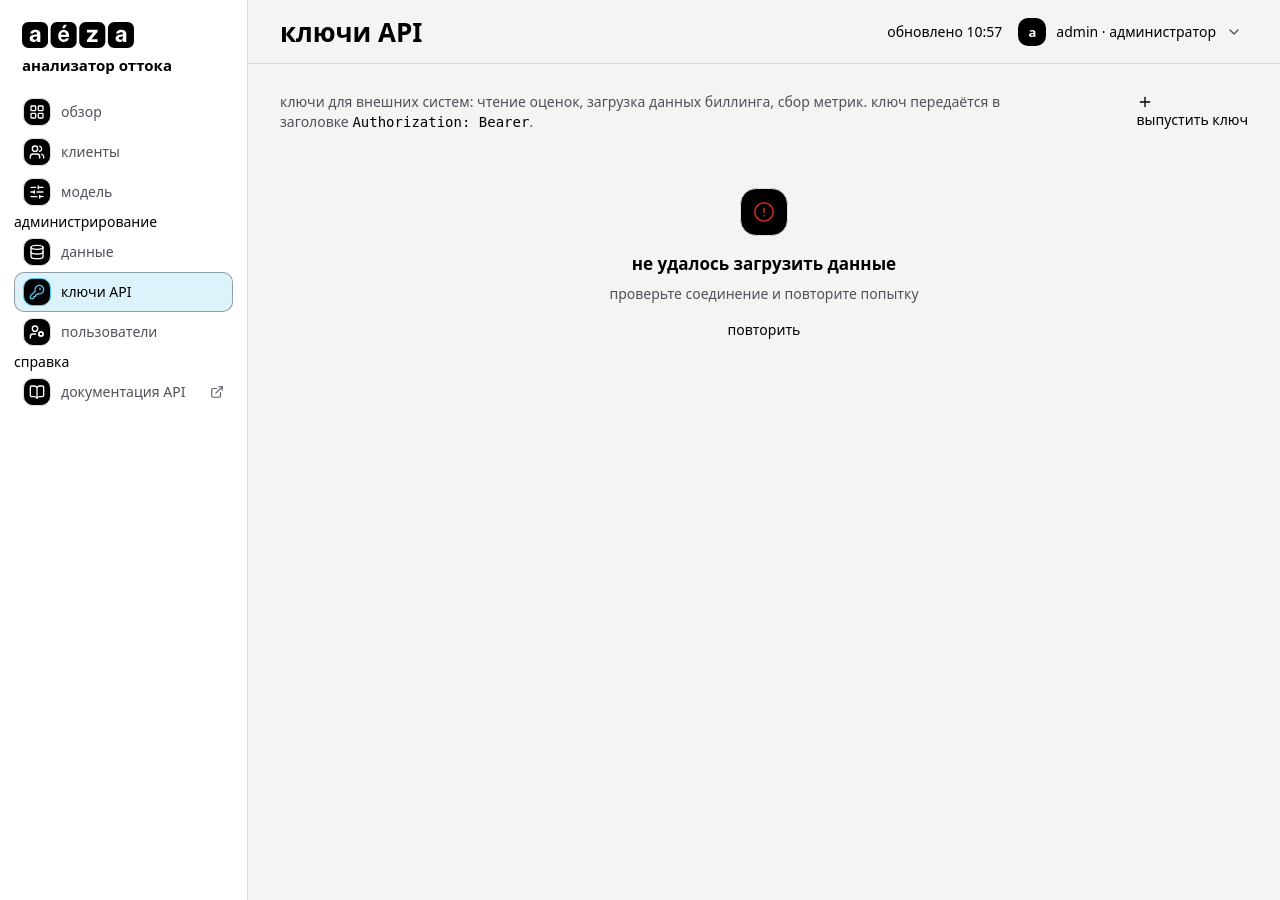
it: api keys page › offers a retry when the list cannot be loaded
The image size is (1280, 900).
Click the button "повторить" at (764, 330), box [728,320,800,340]
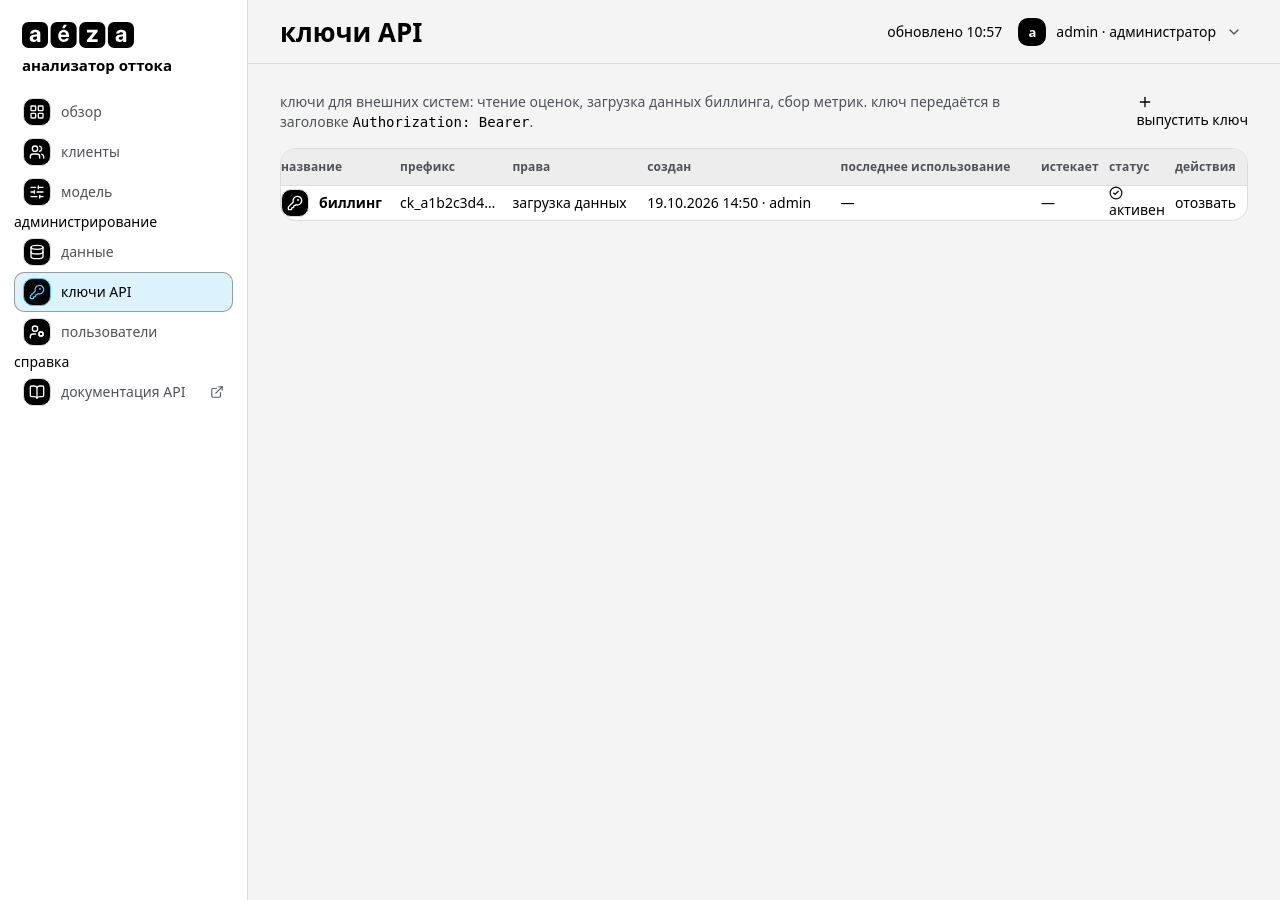
Result: the text "биллинг" is shown at [281,188,382,216]
